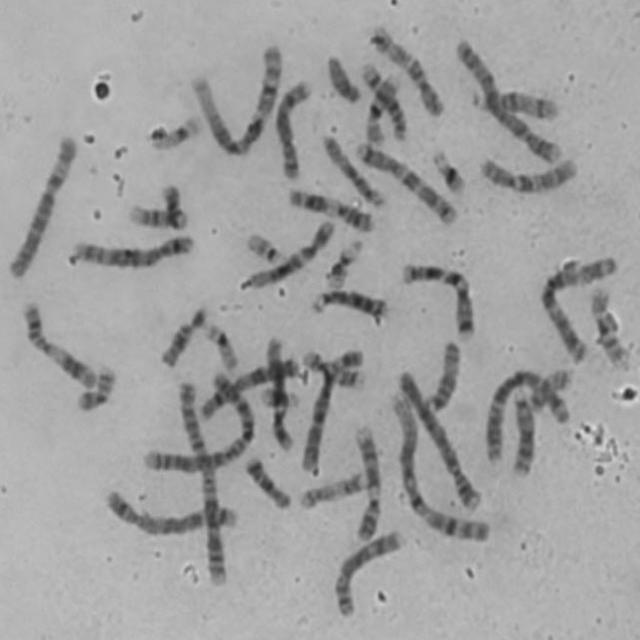A1: (383, 386, 493, 546), (186, 40, 283, 159)
A2: (138, 368, 258, 476), (173, 376, 228, 590)
A3: (535, 250, 621, 366), (484, 368, 572, 466)
B4: (453, 36, 567, 168), (395, 368, 485, 518)
B5: (100, 486, 238, 538), (65, 229, 198, 270)
C10: (368, 24, 448, 118), (475, 154, 580, 198)
C11: (18, 296, 98, 392), (282, 186, 376, 237)
C12: (237, 215, 337, 292), (266, 333, 297, 453)
C6: (6, 133, 82, 285), (296, 344, 367, 473)
C7: (355, 138, 461, 226), (397, 258, 477, 339)
C8: (329, 525, 404, 621), (272, 74, 312, 182)
C9: (350, 420, 382, 544), (125, 182, 191, 230)
D13: (311, 286, 396, 325), (506, 384, 536, 478)
D14: (361, 63, 410, 145), (470, 86, 562, 122)
D15: (320, 132, 387, 207), (420, 337, 463, 413)
E16: (586, 282, 632, 370), (364, 70, 404, 146)
E17: (296, 346, 365, 392), (295, 468, 368, 510)
E18: (243, 453, 292, 510), (159, 319, 198, 371)
F19: (145, 110, 206, 154), (200, 318, 240, 372)
F20: (76, 362, 122, 416), (527, 366, 573, 417)
G21: (431, 150, 469, 197), (259, 384, 300, 410)
G22: (323, 240, 366, 292), (245, 228, 286, 266)
X: (198, 356, 300, 423)
Y: (324, 53, 362, 108)
